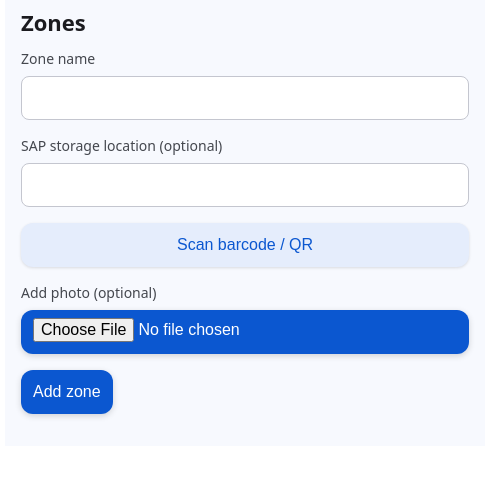
Test: ZonesPage › adds a zone with an optional SAP storage location
In the field labelled "Zone name": (245, 98) [21,76,469,120], type "Warehouse A"
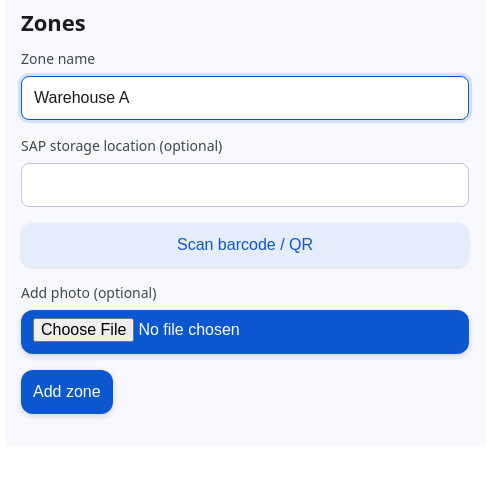
In the field labelled "SAP storage location (optional)": (245, 185) [21,163,469,207], type "SL01"
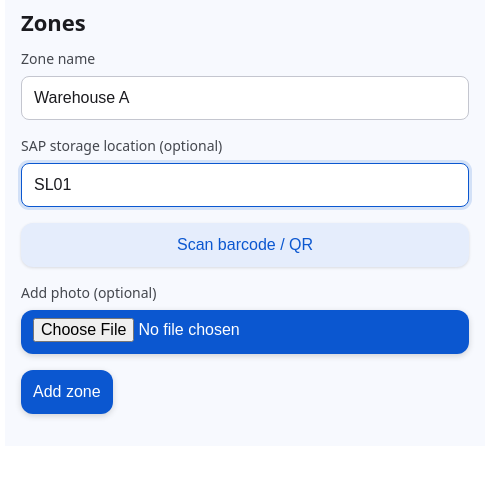
Click the button "Add zone": (67, 392) [21,370,113,414]
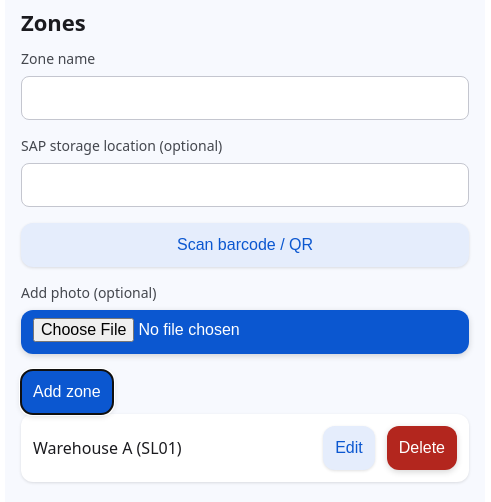
Check: the text "Warehouse A (SL01)" is shown, box [33,437,182,459]
